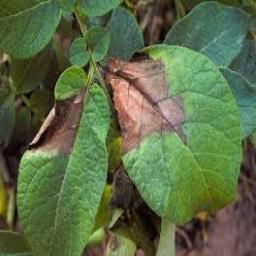Late_blight: (103, 48, 189, 157), (28, 85, 89, 155)
Leaf: (103, 44, 243, 226), (17, 66, 111, 256), (84, 25, 109, 63), (69, 36, 91, 65)
